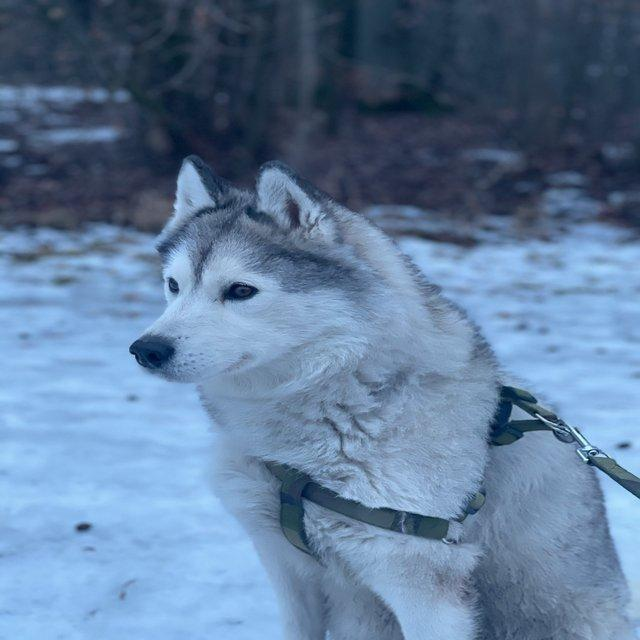husky: (128, 153, 633, 638)
